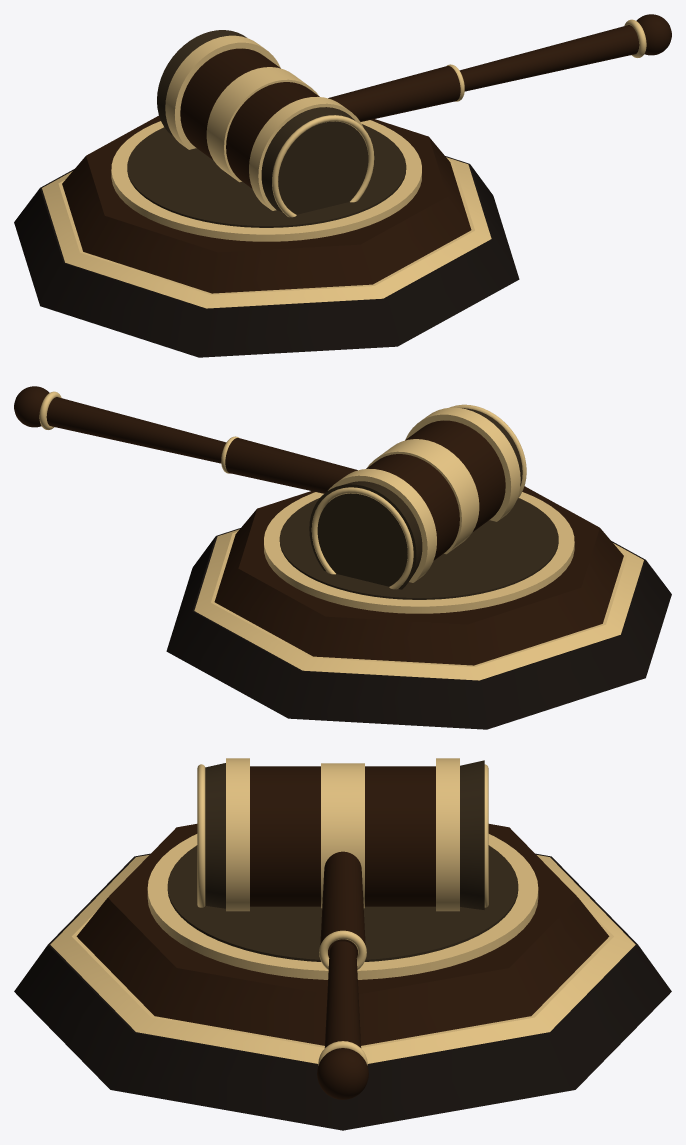
File: gavel.glb
3 renders of one model, top to bottom at view 1: azimuth 30°, elevation 25°; view 2: azimuth 150°, elevation 25°; view 3: azimuth 270°, elevation 25°, orthographic. The views are drawn at different scales.
Parts seen in each view (by area): view 1: JudicialGavel, GavelHead, GavelAssembly; view 2: JudicialGavel, GavelHead, GavelAssembly; view 3: JudicialGavel, GavelHead, GavelAssembly.
Part boxes in pixels (<box>): JudicialGavel: <box>14,115,519,357</box>; GavelHead: <box>157,30,374,217</box>; GavelAssembly: <box>328,14,671,121</box>; JudicialGavel: <box>166,486,671,729</box>; GavelHead: <box>309,404,526,589</box>; GavelAssembly: <box>14,386,357,493</box>; JudicialGavel: <box>14,824,671,1130</box>; GavelHead: <box>197,758,488,911</box>; GavelAssembly: <box>317,851,368,1099</box>.
Size of the model in its own units: 4.58 by 1.25 by 3.3.
